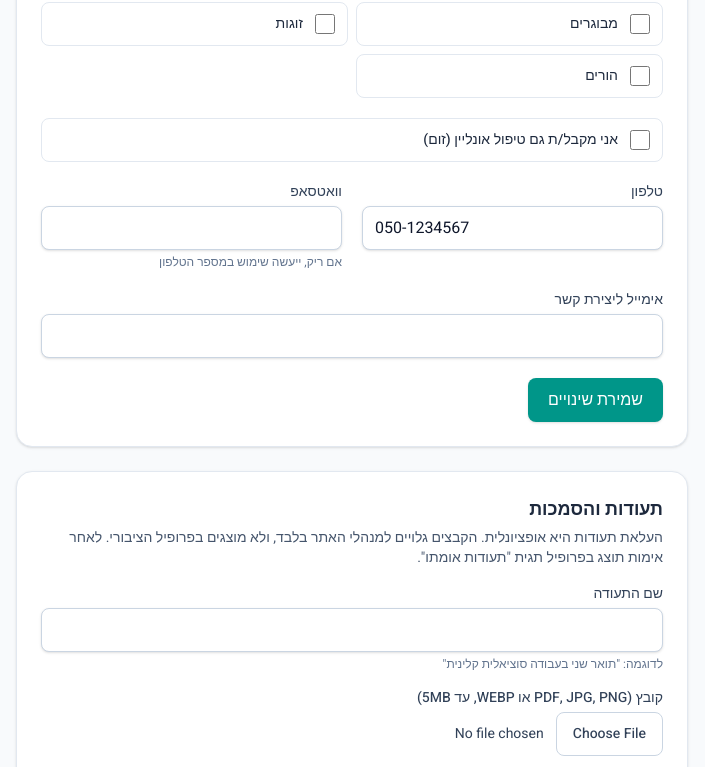
Test: Dashboard: the profile form › shows a Hebrew error when saving fails, and no success message
The image size is (705, 767).
(page scrolled)
Click the button "שמירת שינויים" at [596, 400], box [528,378,663,422]
(page scrolled)
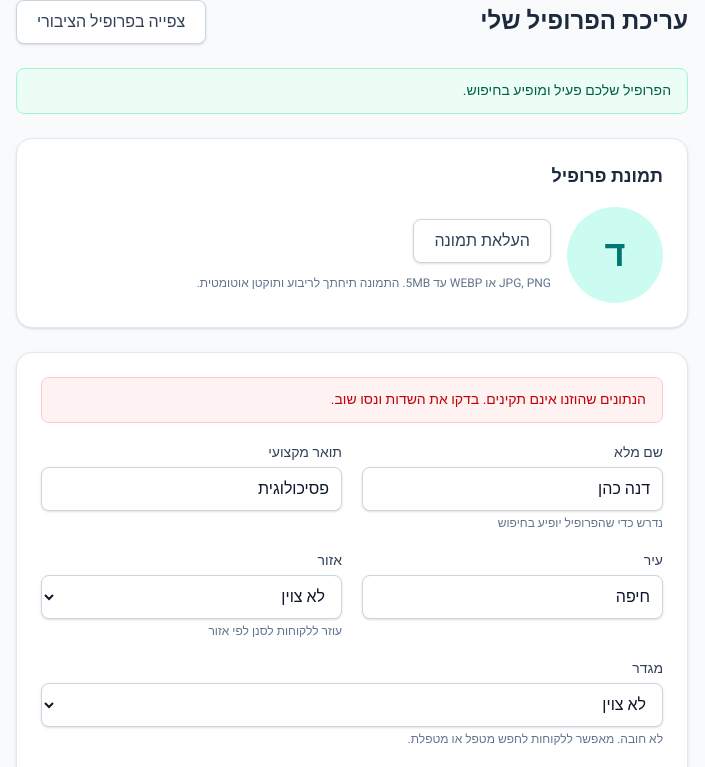
Expected: the message "הנתונים שהוזנו אינם תקינים. בדקו את השדות ונסו שוב." is shown, [41,377,663,423]
